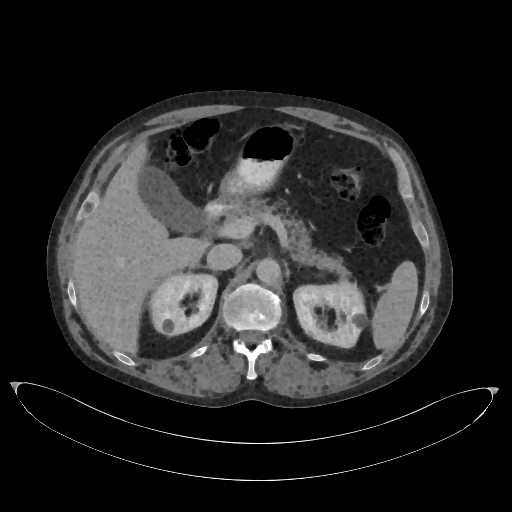Lesion: (353, 313, 370, 330)
